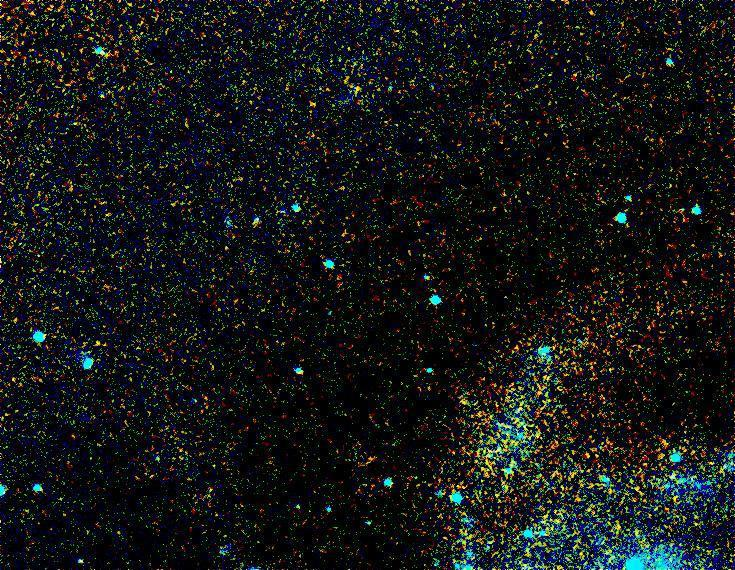star: (445, 382, 475, 412)
